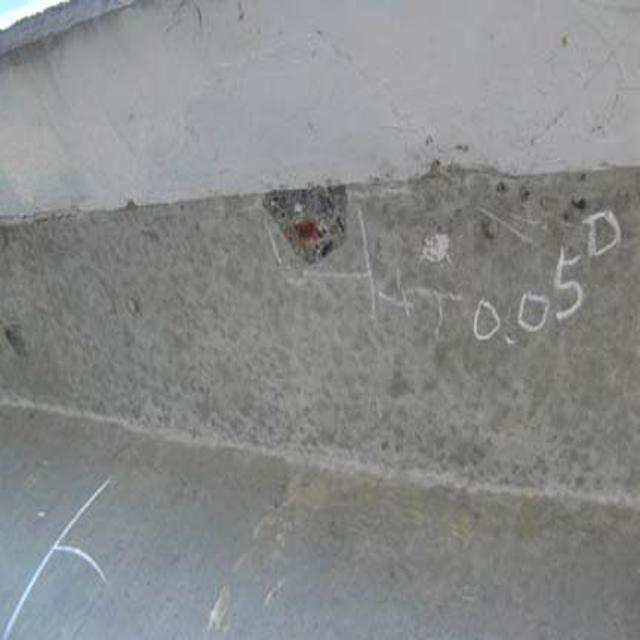spalling: (262, 158, 372, 296)
